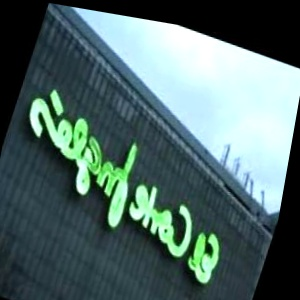corte_ingles: (231, 213, 267, 272)
